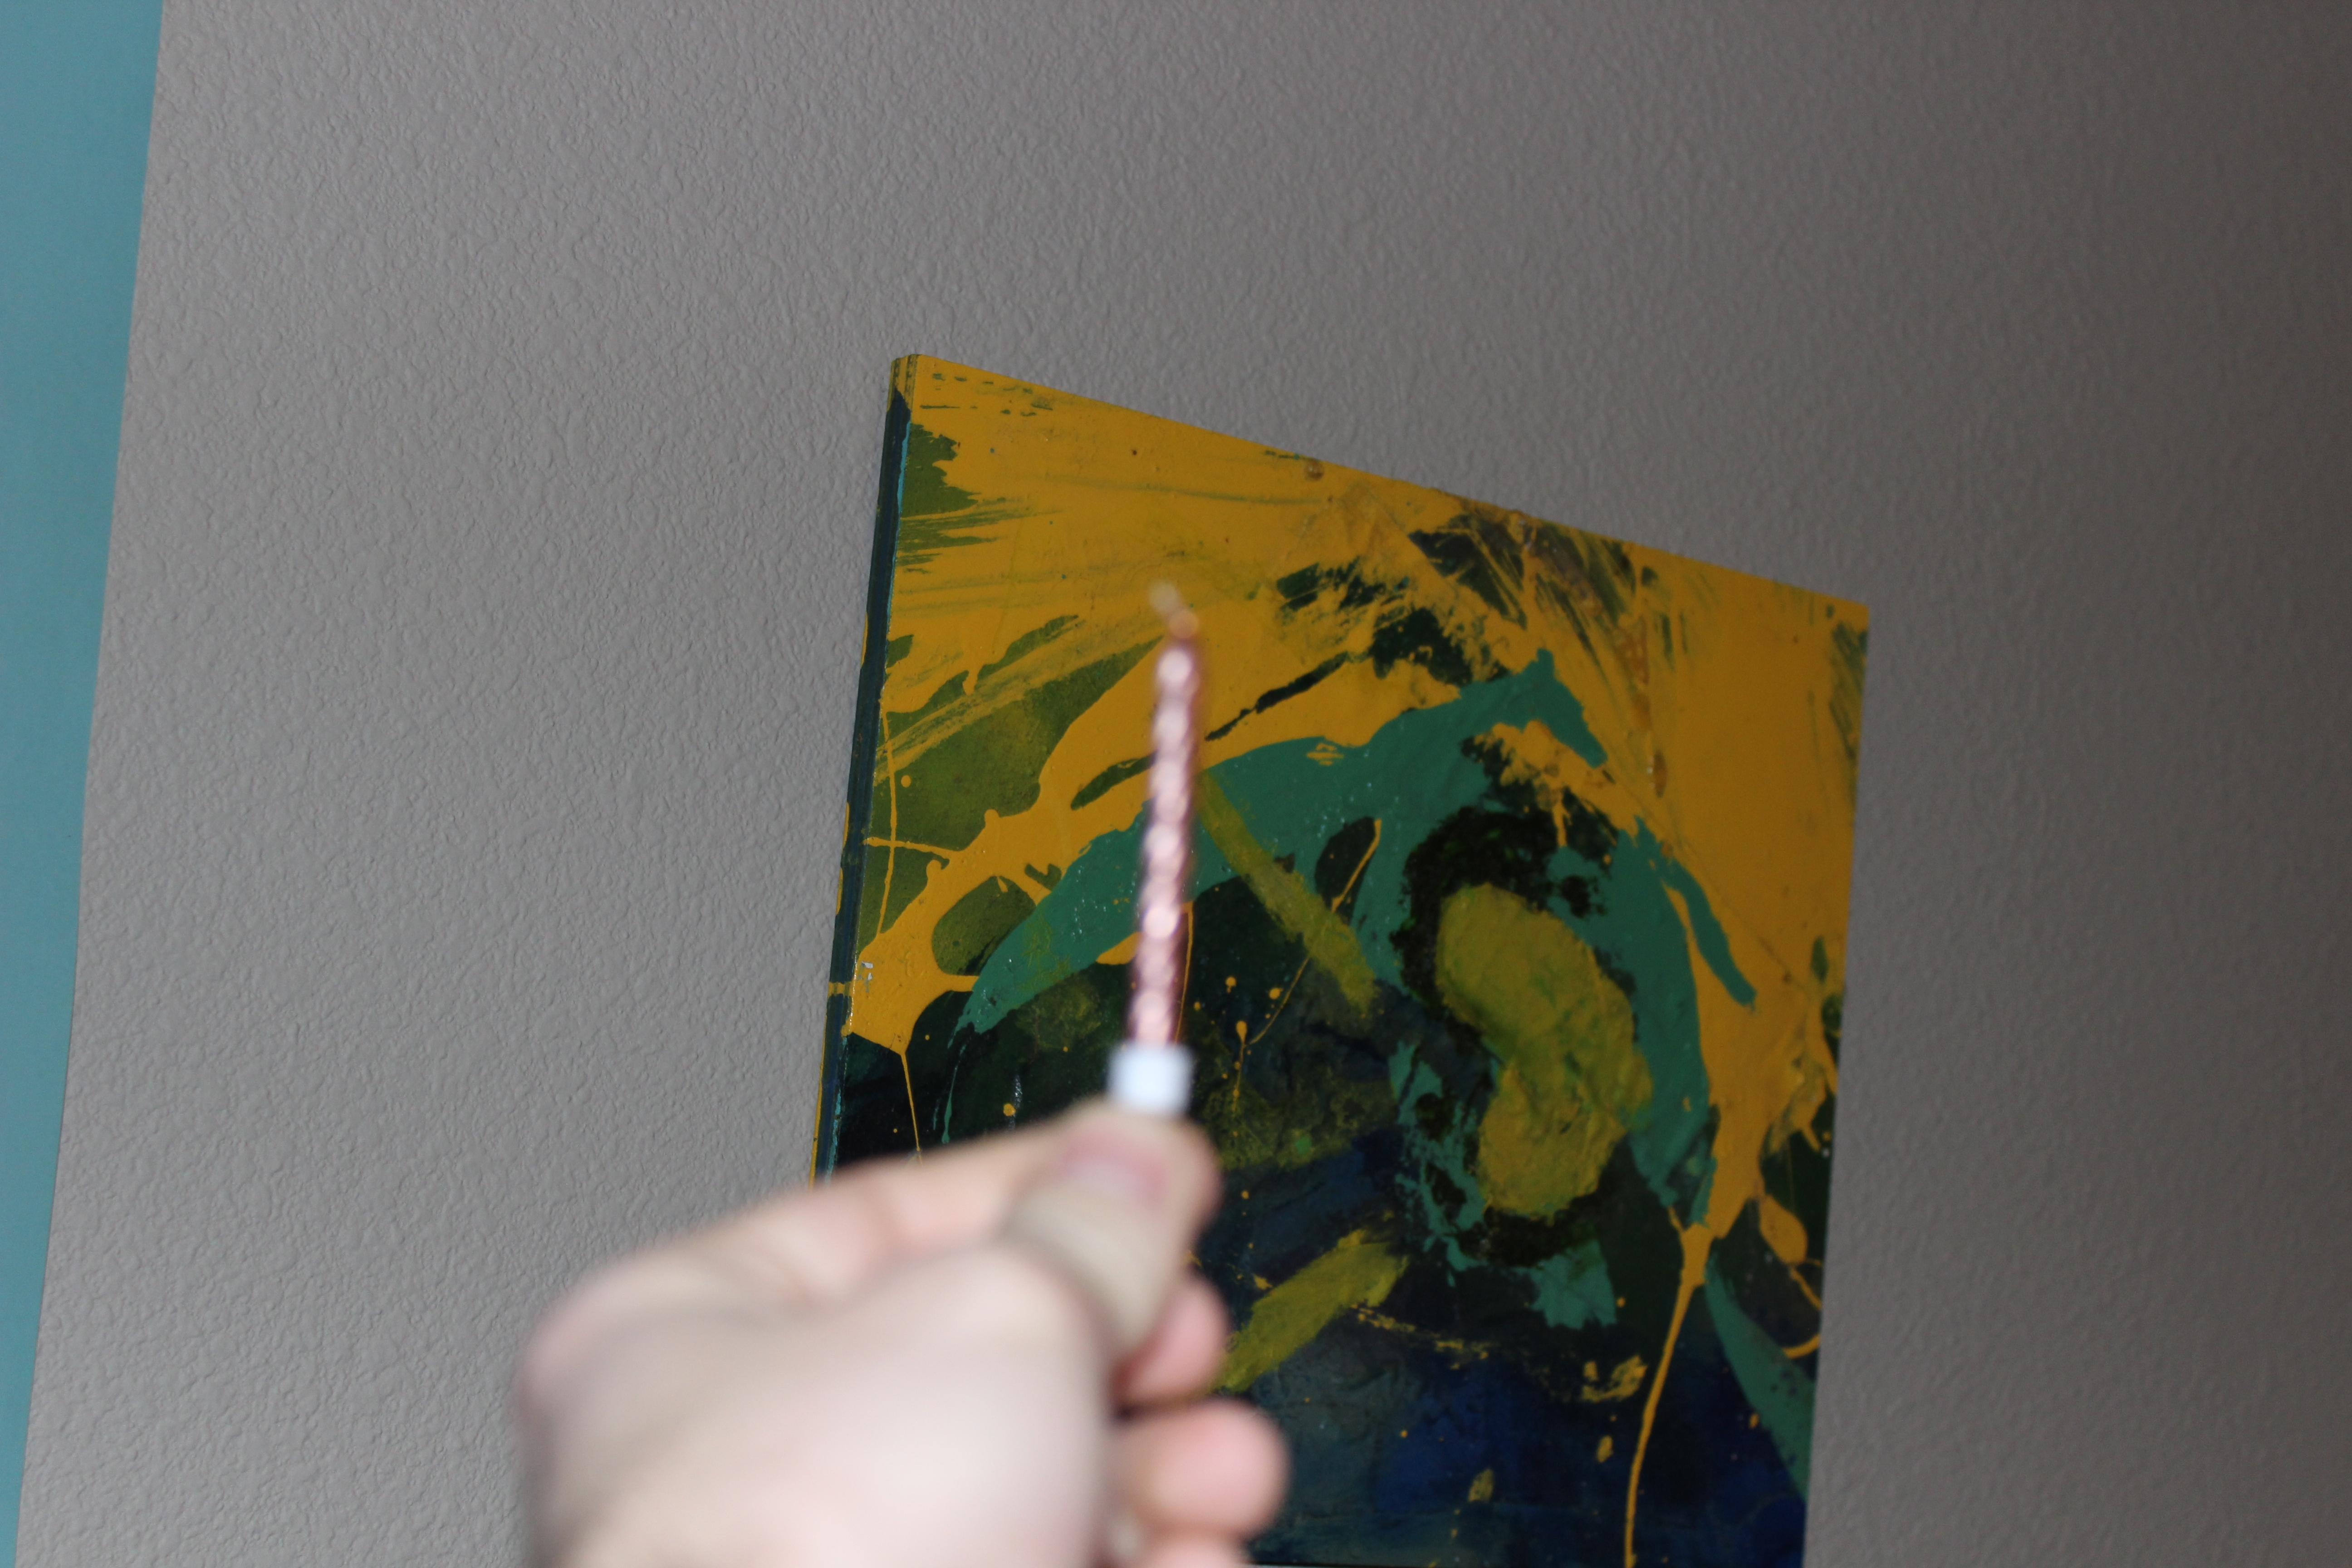pinkCandle: (1048, 555, 1246, 1172)
